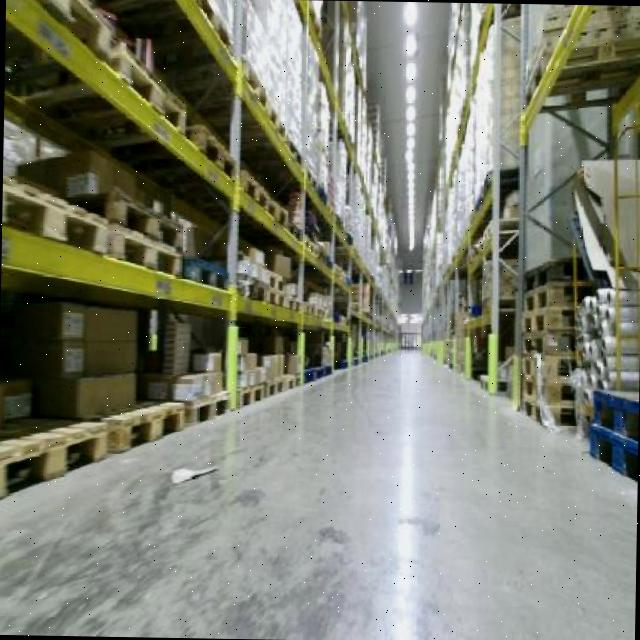pallet: (1, 166, 118, 274), (0, 419, 111, 507), (106, 217, 189, 288), (97, 395, 195, 453), (110, 191, 195, 250), (191, 115, 244, 193), (518, 284, 566, 312), (236, 378, 269, 416)
